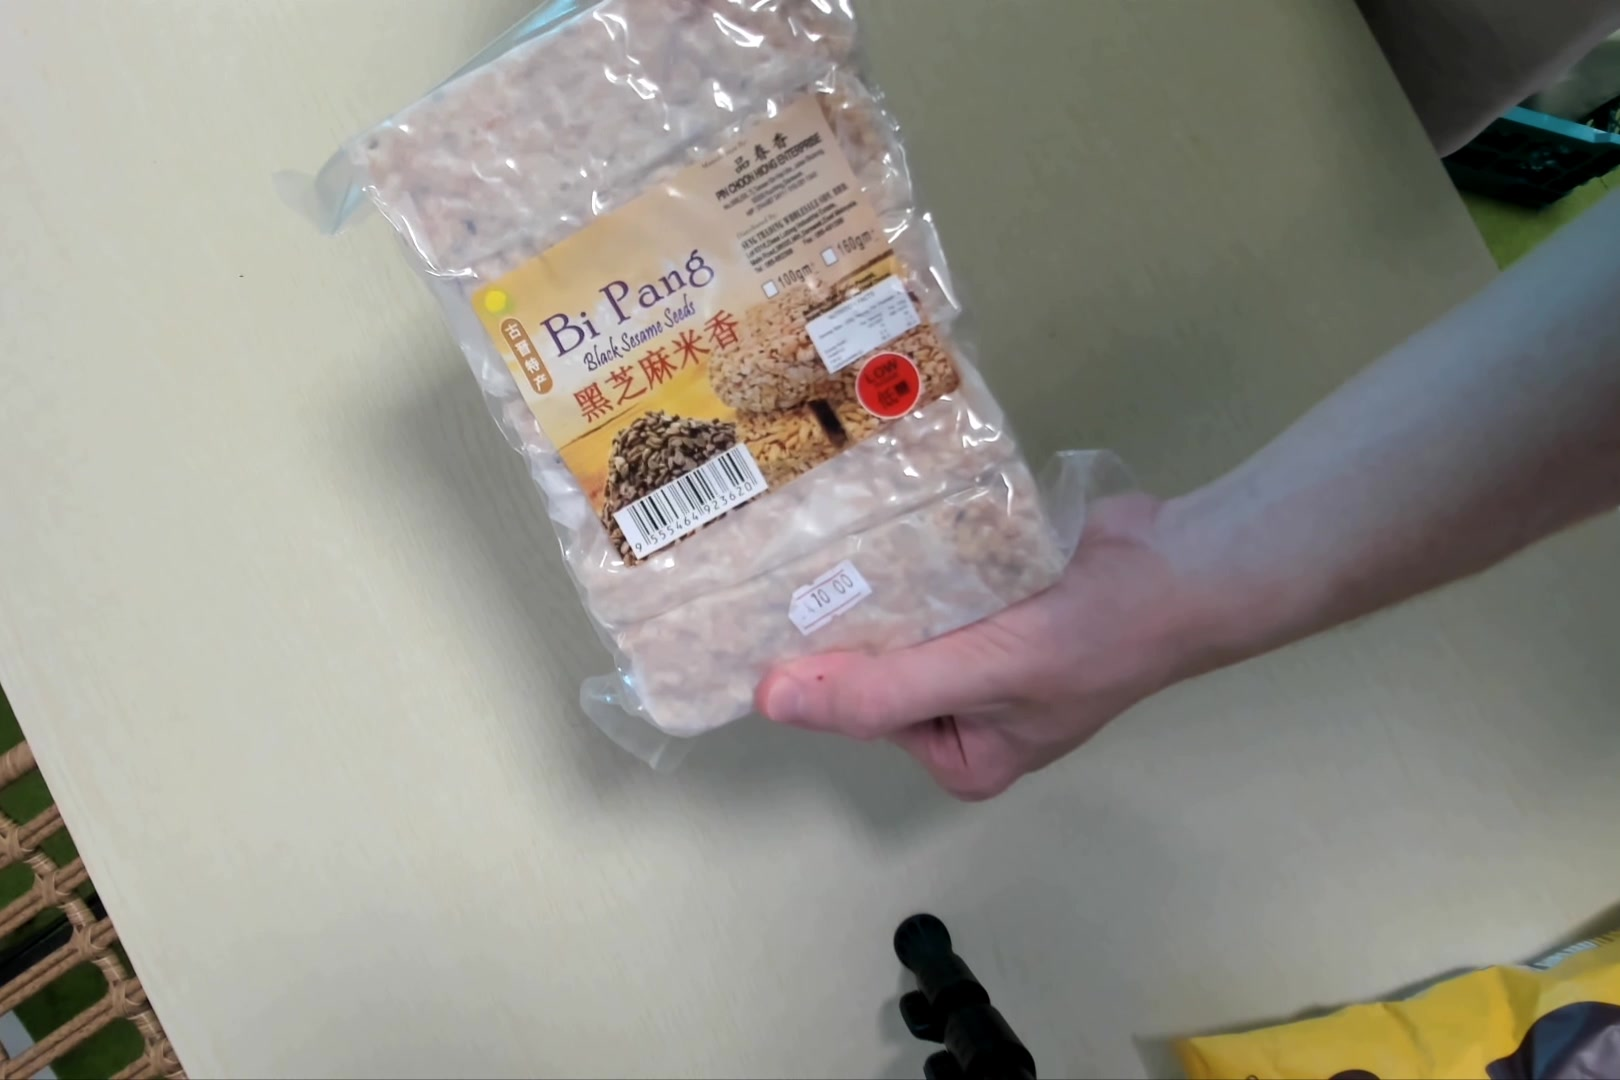PotatoChipsKeropok_100-199g_NonHalal_NonHealthy: (350, 1, 1062, 730)
